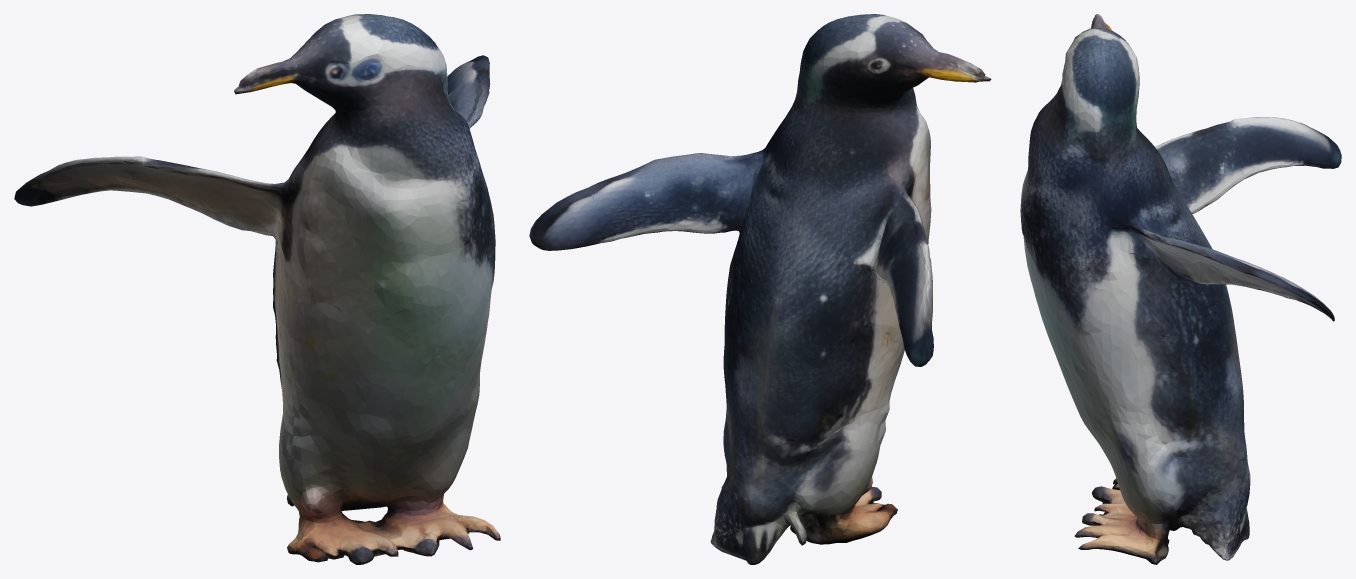
The picture shows the model from 3 angles, left to right: view 1: azimuth 30°, elevation 25°; view 2: azimuth 150°, elevation 25°; view 3: azimuth 270°, elevation 25°; orthographic projection. The views are drawn at different scales.
Visible parts, largest first — view 1: world; view 2: world; view 3: world.
Boxes of the visible parts, x1,y1,x2,y2 form: world: (14,14,500,564); world: (529,14,991,564); world: (1020,14,1341,564).
Bounding box in the file's own units: 0.795 × 0.9437 × 0.5703.
Materials: 1 (1 with a texture image).
